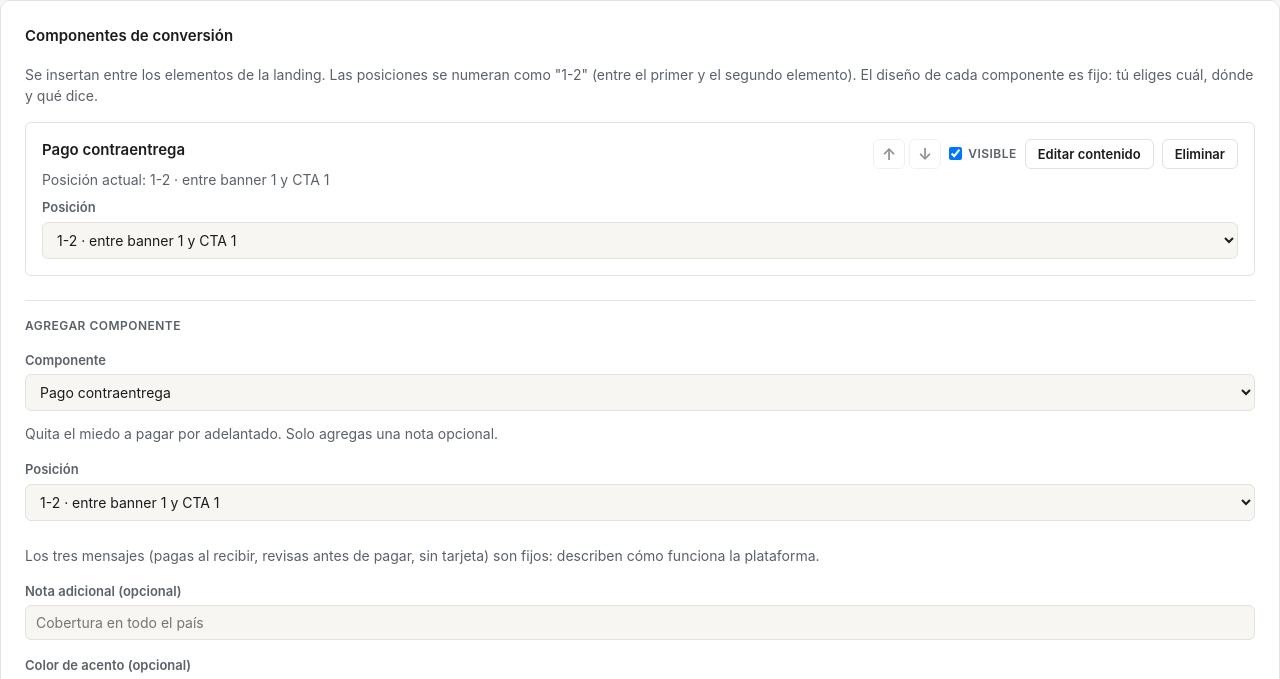
Test: LandingBlocksPanel › moves a placed component to another slot
The image size is (1280, 679).
Select "4-5 · entre CTA 2 y banner 3" in the dropdown labelled "Posición" below "Pago contraentrega" at (640,240), box top-left (42, 222), bottom-right (1238, 258)
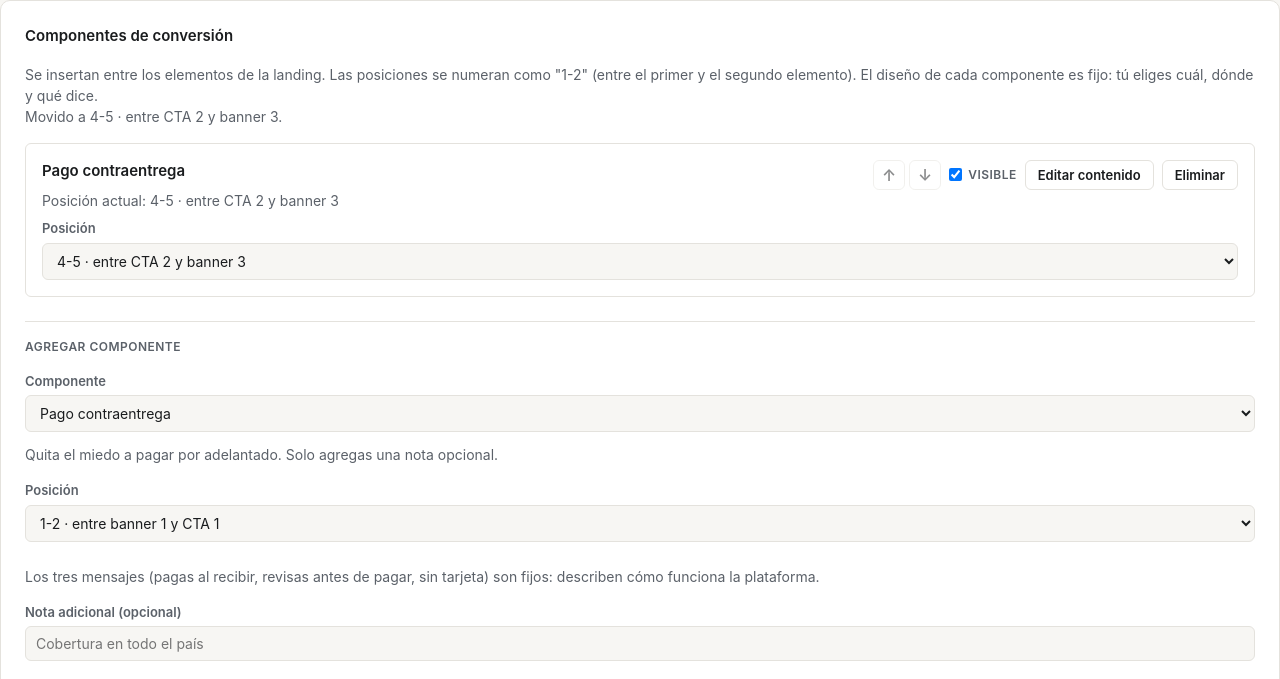
Expected: the text "Posición actual: 4-5 · entre CTA 2 y banner 3" is shown, top-left (42, 190), bottom-right (339, 211)
